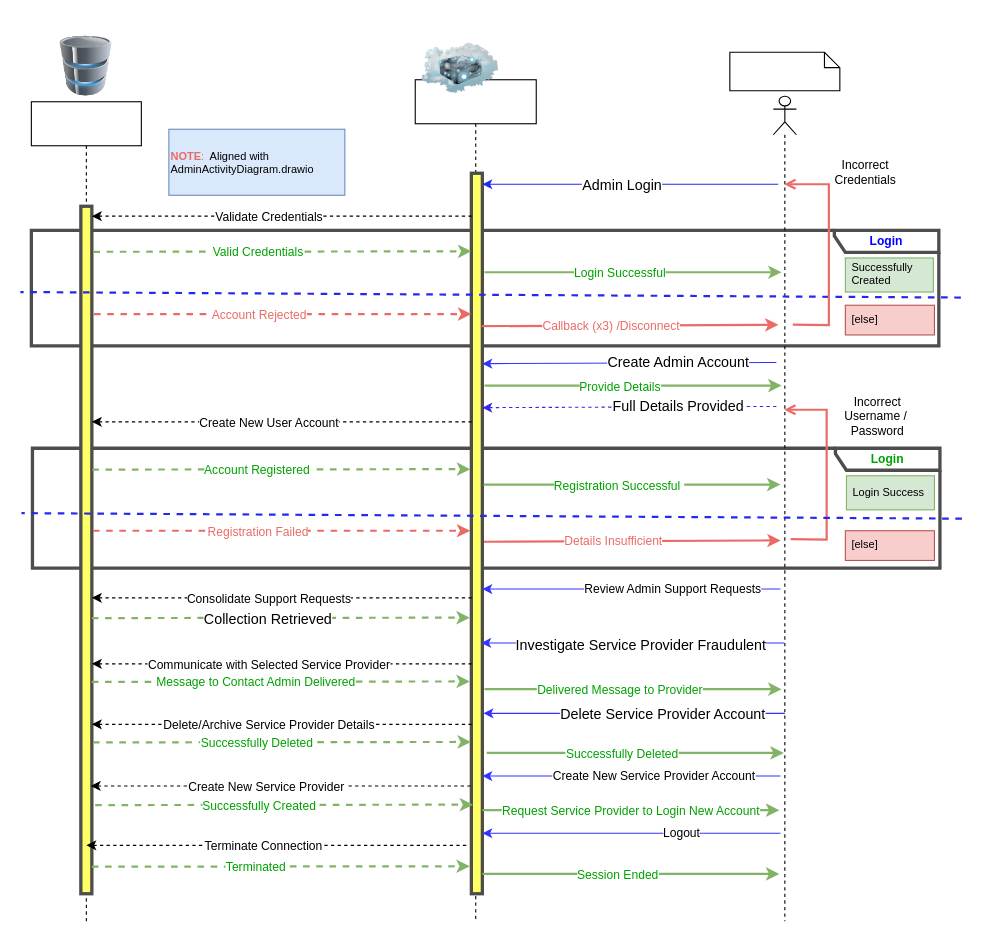
The diagram is 982 pixels wide and 941 high, and some of its shapes have lost their labels. The box of each missing label's shape, as (x1, y1, x2, y2) in pixels:
Admin Assistance: (729, 51, 840, 91)
Database: (30, 101, 141, 921)
Website: (414, 79, 536, 921)
